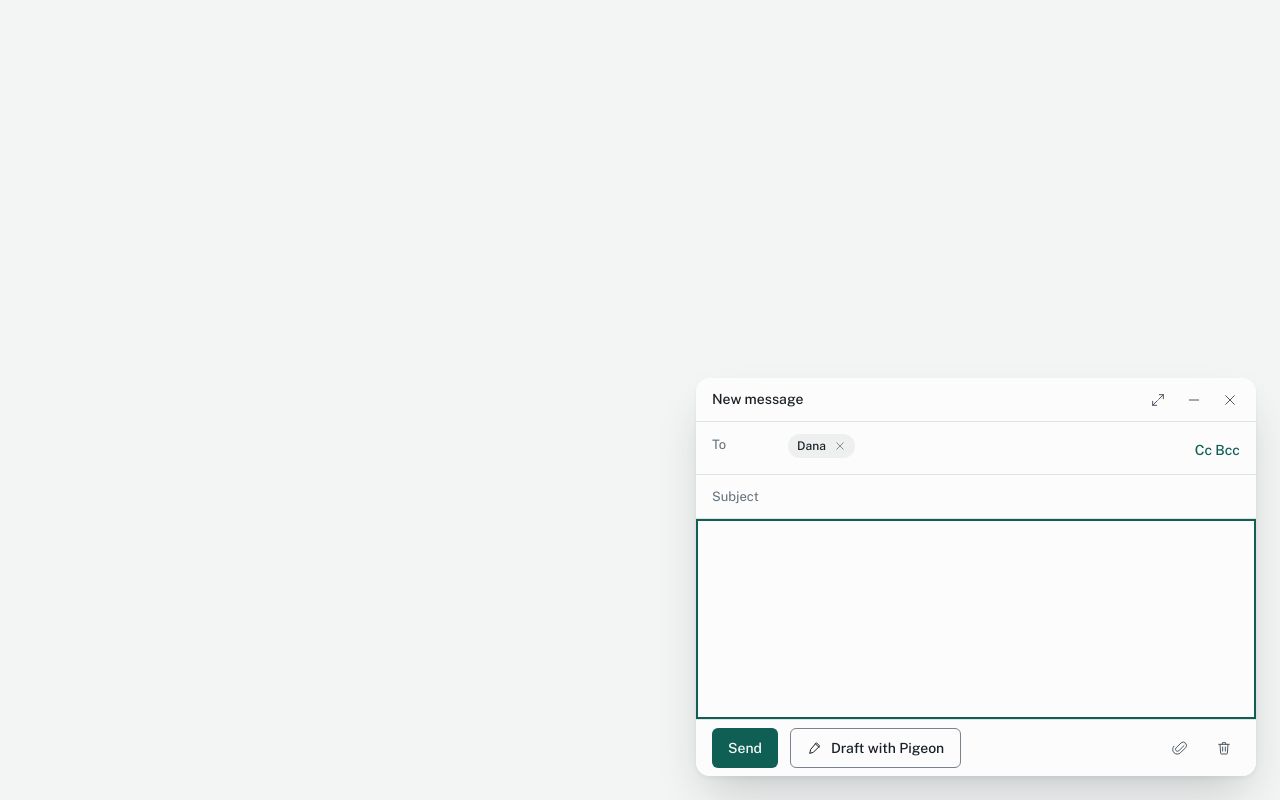
Test: retrying a failed tone change (§3.4 4a) › does not run two retries at once
This screenshot has width=1280, height=800.
Step 1. Click the button "Draft with Pigeon" → x=876, y=748, box [790,728,961,768]
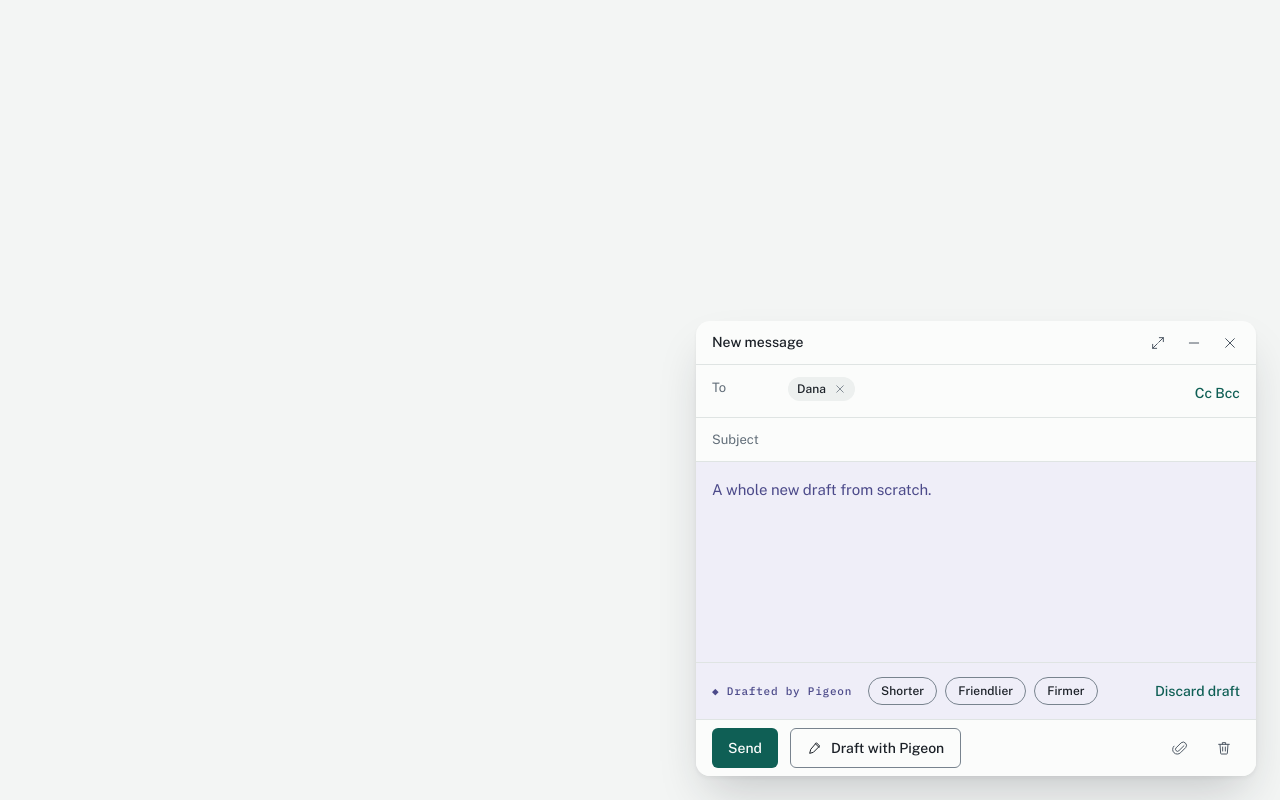
Expected: the text box named "Message body" holds "A whole new draft from scratch."
Step 2. Type " And my own words." into the text box named "Message body" → x=976, y=562, box [696,462,1256,662]
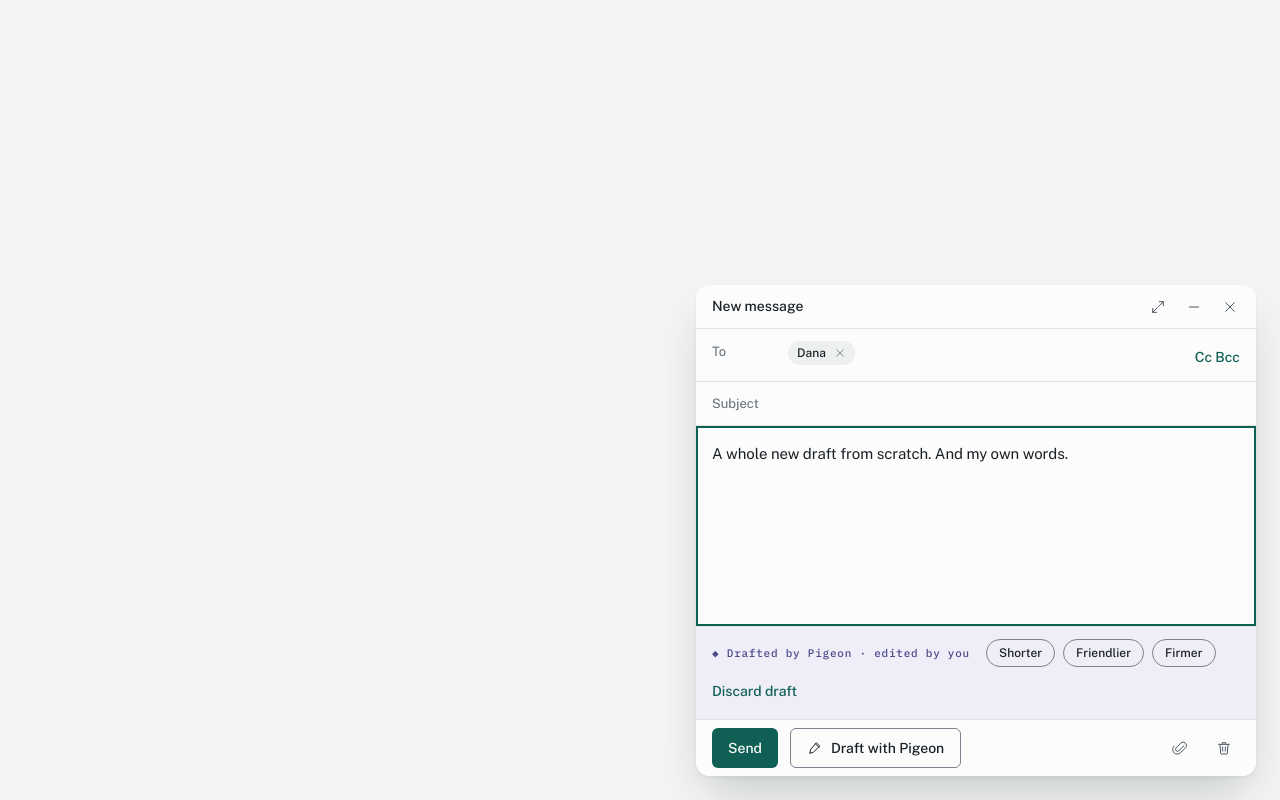
Step 3. Click the button "Friendlier" → x=1104, y=653, box [1063,639,1144,667]
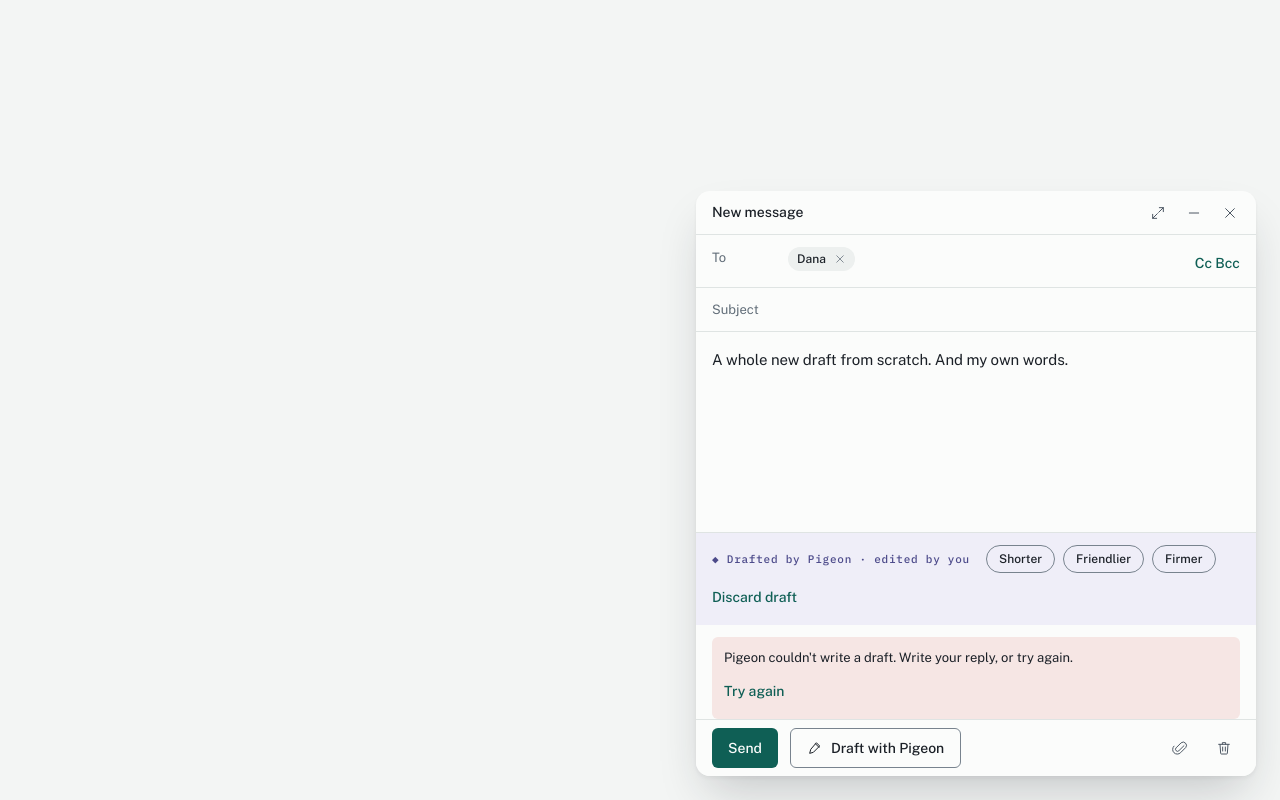
Expected: the text "Pigeon couldn't write a draft. Write your reply, or try again." is shown, [724,650,1073,665]
Step 4. Click the button "Try again" → x=754, y=691, box [724,675,784,707]
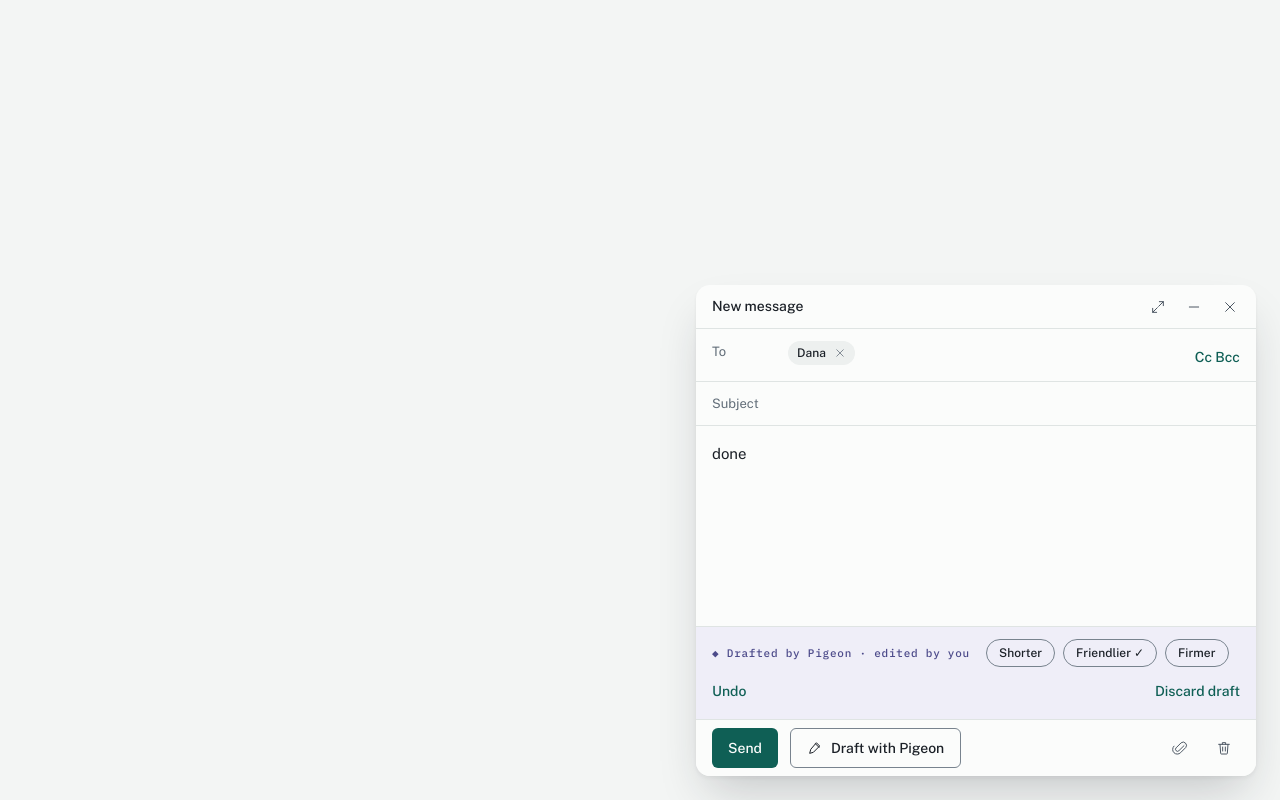
Expected: the button "Try again" is gone
